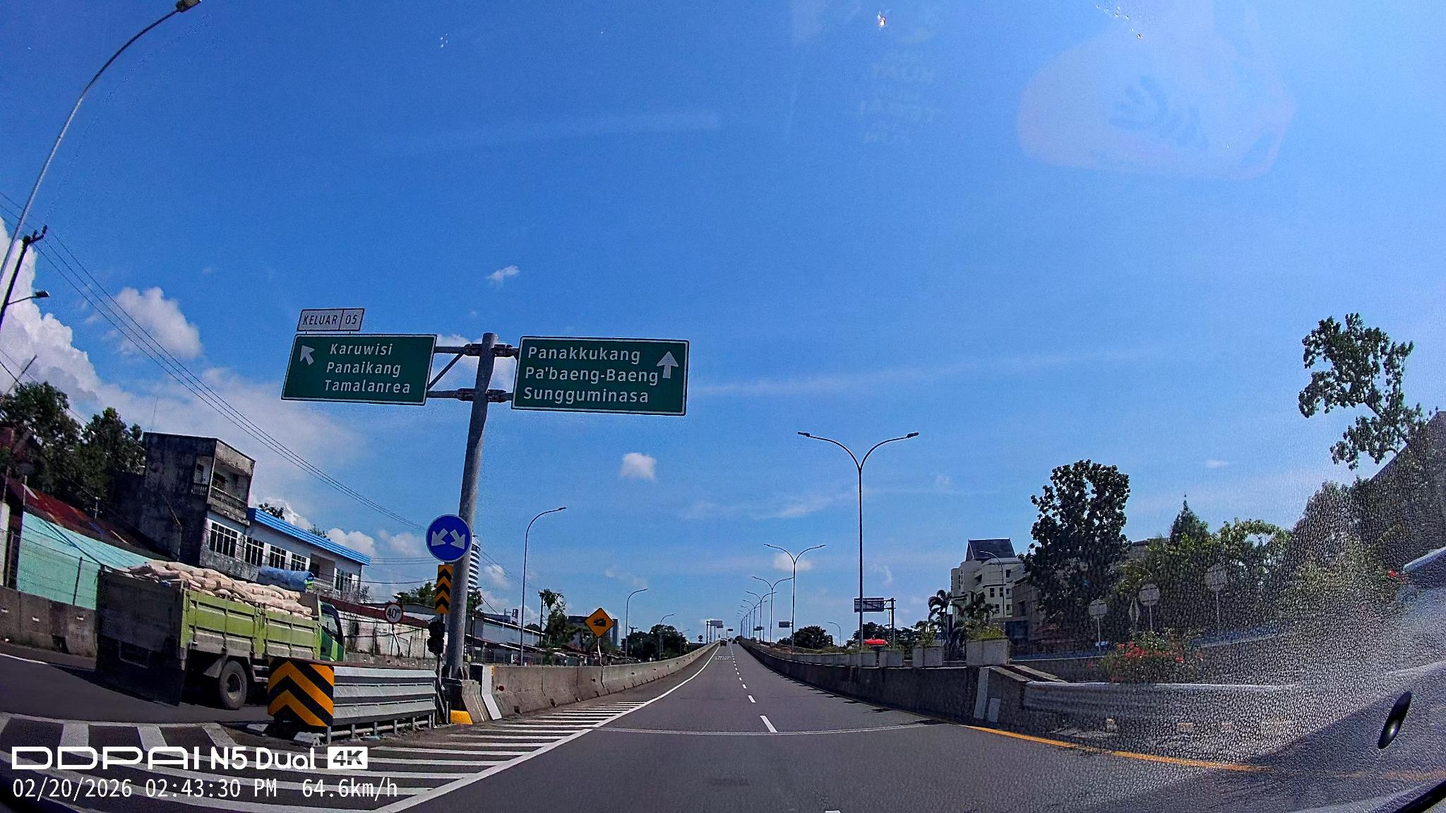rambu_teks: (510, 335, 689, 417), (280, 331, 438, 405)
